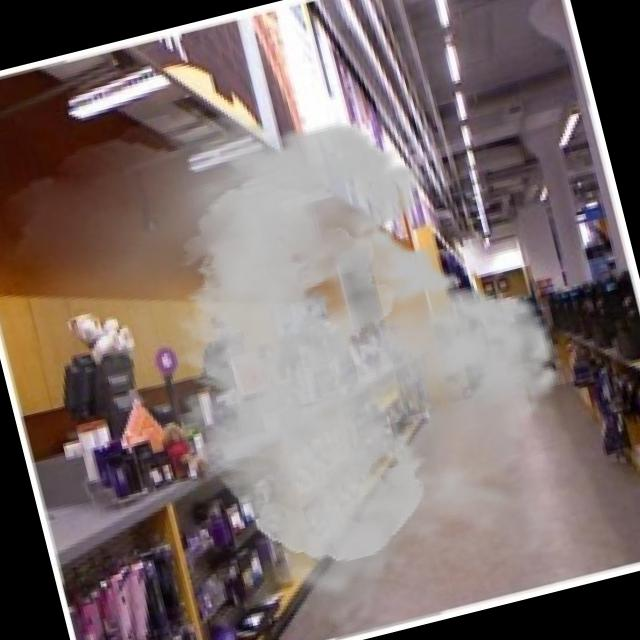Smoke: (0, 31, 632, 640)
